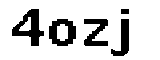4: (7, 6, 45, 48)
j: (110, 4, 135, 60)
o: (48, 17, 78, 49)
z: (83, 14, 112, 50)
